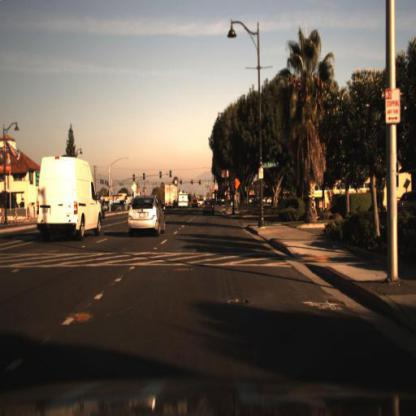car: (34, 155, 104, 240), (126, 193, 164, 235), (198, 194, 216, 217), (176, 189, 190, 211), (186, 192, 197, 212)
truck: (162, 181, 178, 214)
